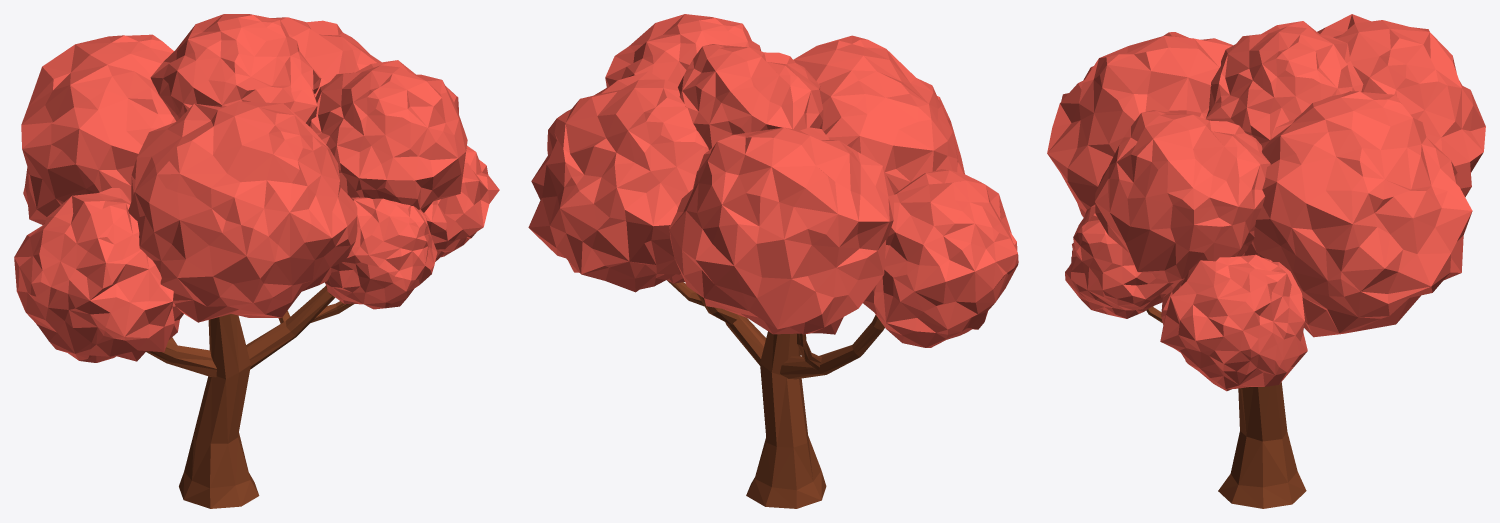
The model's file is burning-tree2.glb.
3 views of the same model, side by side, from view 1: azimuth 30°, elevation 25°; view 2: azimuth 150°, elevation 25°; view 3: azimuth 270°, elevation 25° (orthographic). The views are drawn at different scales.
Visible parts, largest first — view 1: Tree.3; view 2: Tree.3; view 3: Tree.3.
Boxes of the visible parts, x1,y1,x2,y2 form: Tree.3: (14,14,499,508); Tree.3: (528,14,1018,508); Tree.3: (1047,14,1485,508).
Bounding box in the file's own units: 0.5727 × 0.5331 × 0.4464.
